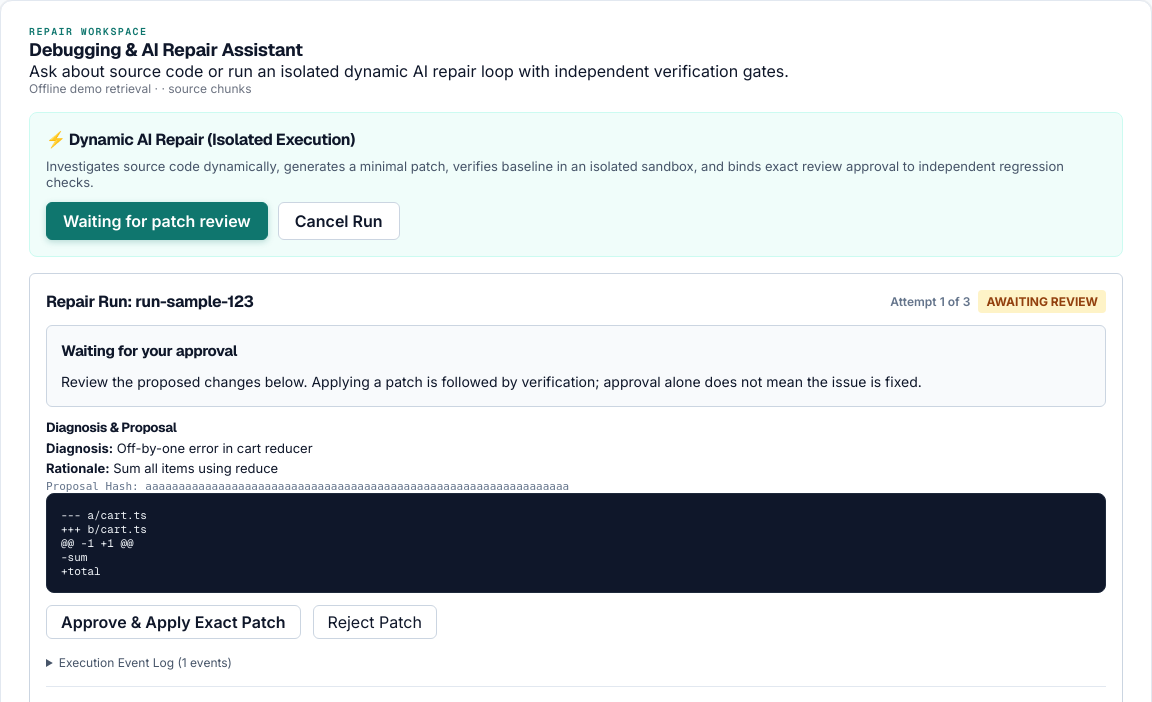
it: AIAssistant Component › shows approval progress and makes a retried proposal visibly require fresh approval
The image size is (1152, 702).
Click the button "Approve & Apply Exact Patch".
click(173, 622)  # box [46,604,301,638]
(page scrolled)
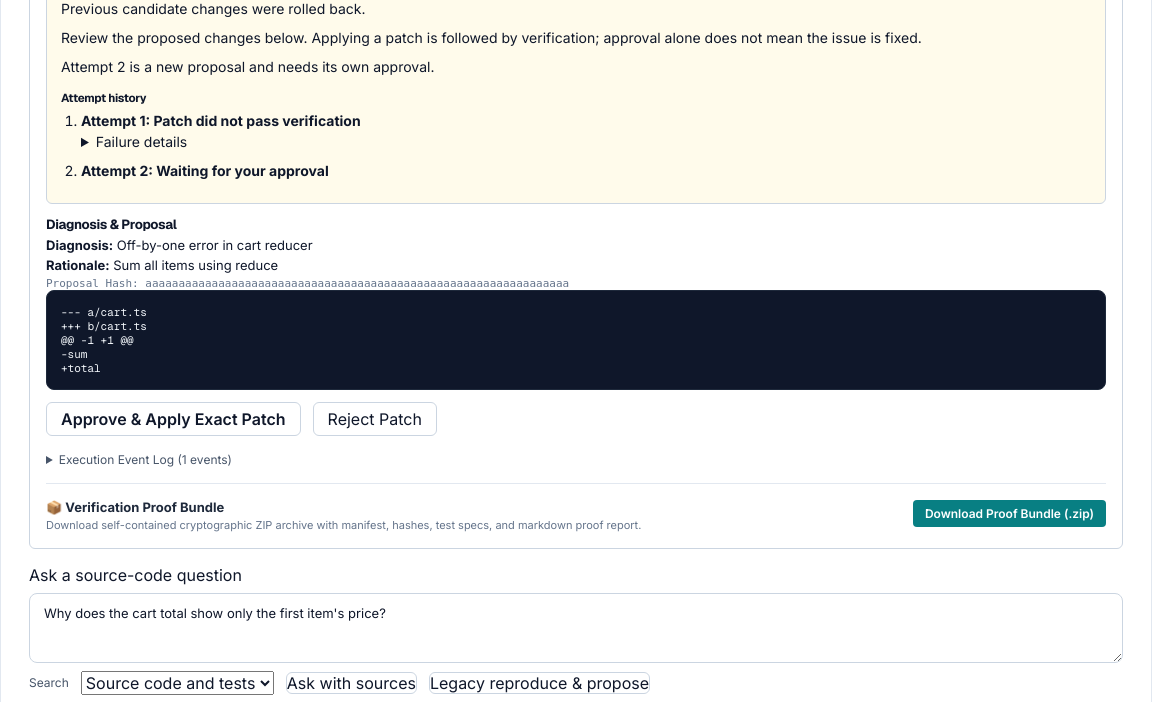
Expected: the button "Approve & Apply Exact Patch" is enabled, [46,402,301,436]
Expected: the text "Attempt 2 is a new proposal and needs its own approval." is shown, [61,58,434,74]
